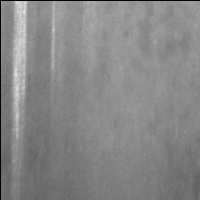scratches: (9, 1, 31, 149), (46, 2, 59, 88)
